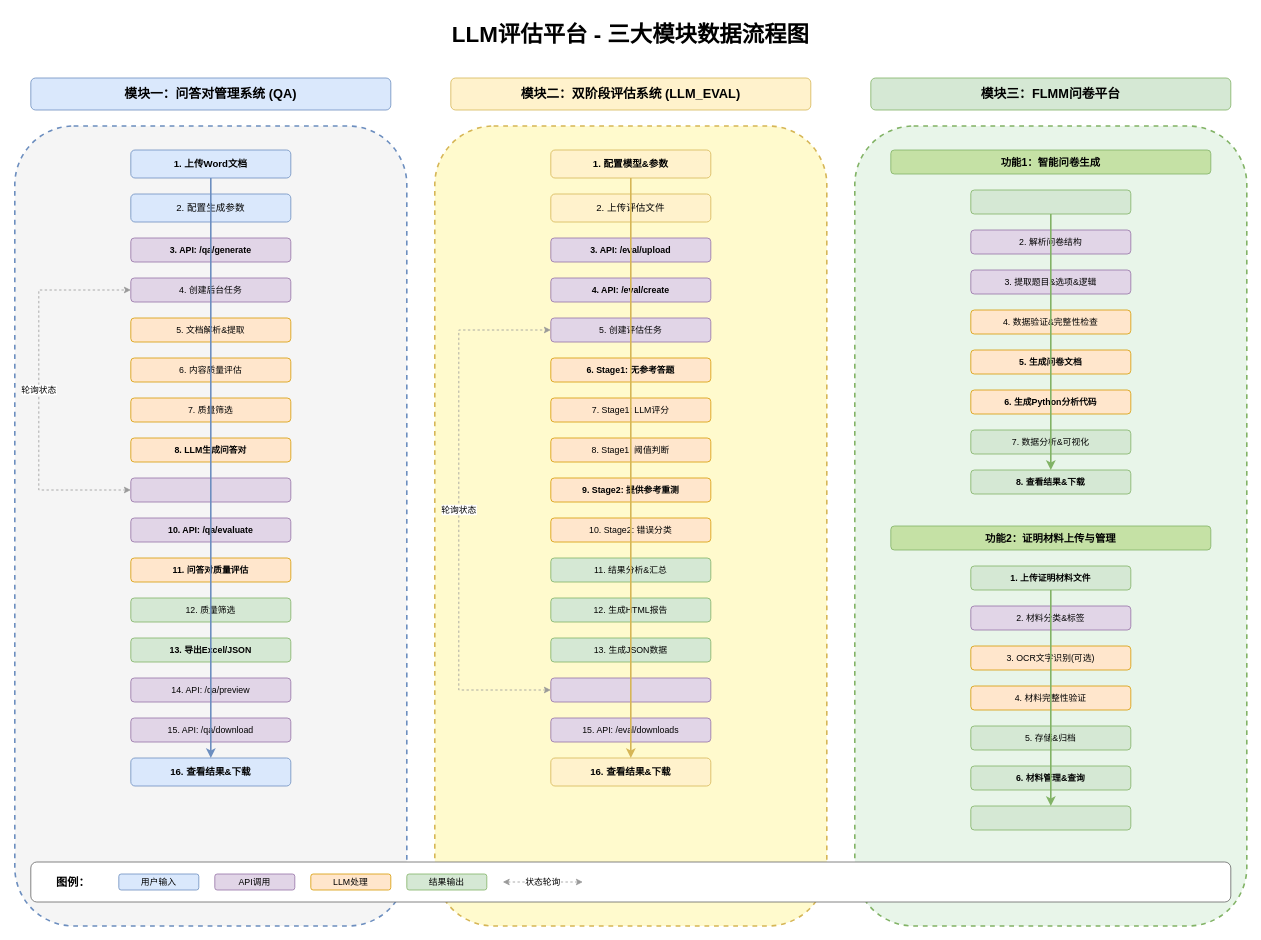
Some shapes in this 1261 by 940 pixel diagram are drawn without their labels. The shapes that lost their labels are listed below. From the top down, each one's box as (x1, y1, x2, y2) in pixels, then its label:
(970, 189, 1131, 214): 1. 上传问卷Word文档
(130, 477, 291, 502): 9. 实时状态监控
(550, 677, 711, 702): 14. API: /eval/task/{id}
(970, 805, 1131, 830): 7. 批量下载&导出
